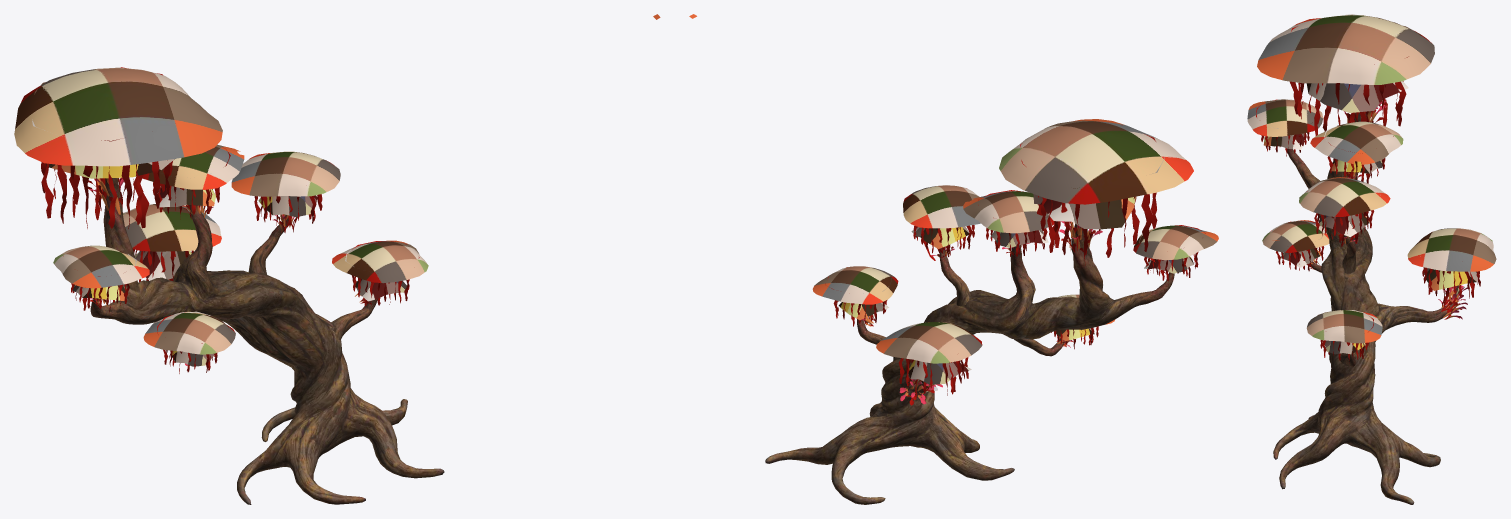
The model's file is jhay_tree6.glb.
3 views of the same model, side by side, from view 1: azimuth 30°, elevation 25°; view 2: azimuth 150°, elevation 25°; view 3: azimuth 270°, elevation 25° (orthographic). The views are drawn at different scales.
Visible parts, largest first — view 1: tree 6.001; view 2: tree 6.001; view 3: tree 6.001.
Boxes of the visible parts, x1,y1,x2,y2 form: tree 6.001: (14, 14, 660, 504); tree 6.001: (689, 14, 1218, 504); tree 6.001: (1247, 14, 1496, 504).
Size of the model in its own units: 7.13 by 4.99 by 3.16.
2 materials, 2 textured.
